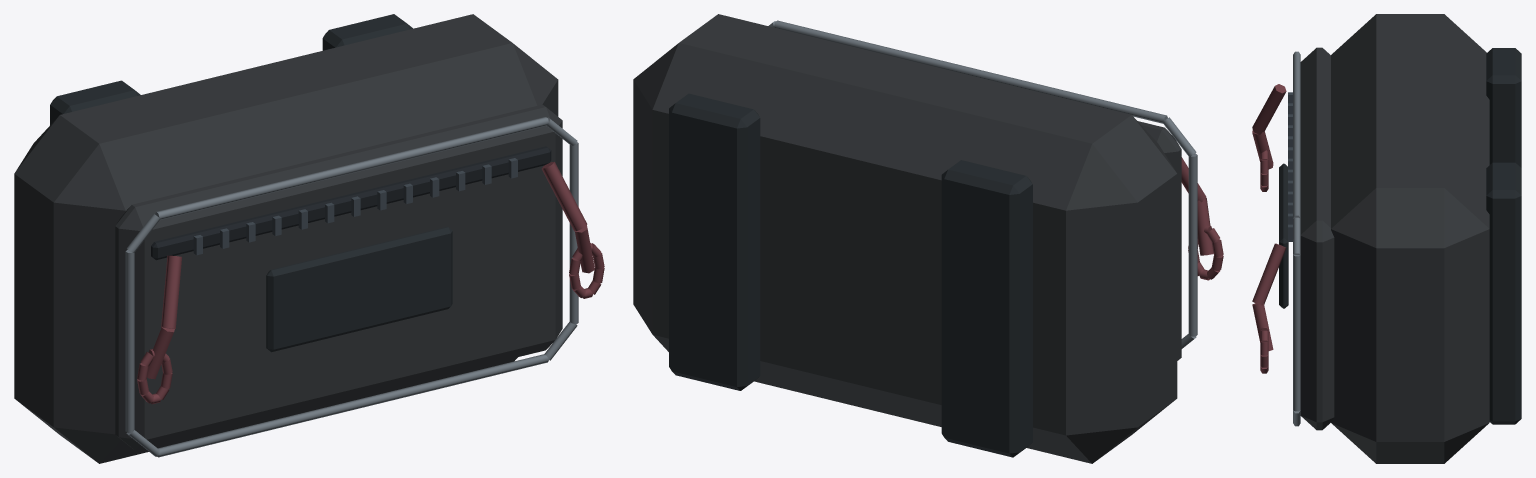
File: access-pouch.glb
The picture shows the model from 3 angles, left to right: view 1: azimuth 30°, elevation 25°; view 2: azimuth 150°, elevation 25°; view 3: azimuth 270°, elevation 25°; orthographic projection. The views are drawn at different scales.
Parts seen in each view (by area): view 1: access-pouch; view 2: access-pouch; view 3: access-pouch.
Boxes of the visible parts, <box> form: access-pouch: <box>14,14,604,463</box>; access-pouch: <box>633,14,1223,463</box>; access-pouch: <box>1252,14,1521,463</box>.
Size of the model in its own units: 0.155 by 0.094 by 0.0832.
